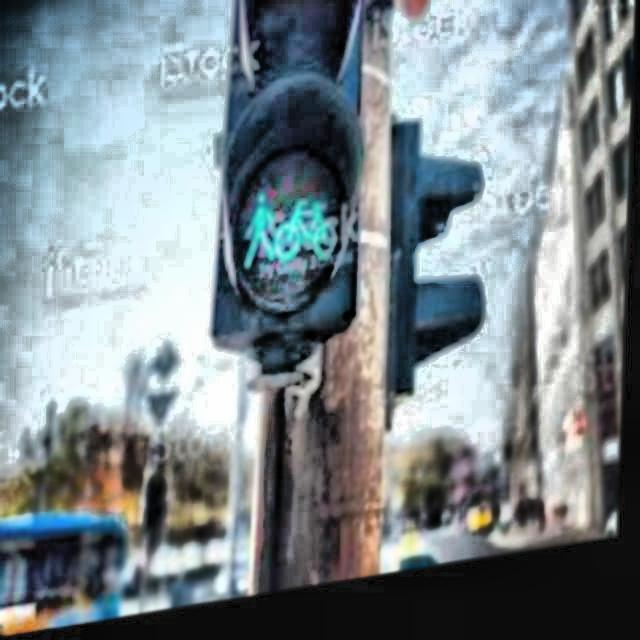semaforo pedestre: (108, 0, 446, 471)
